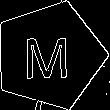M_N: (25, 30, 74, 81)
